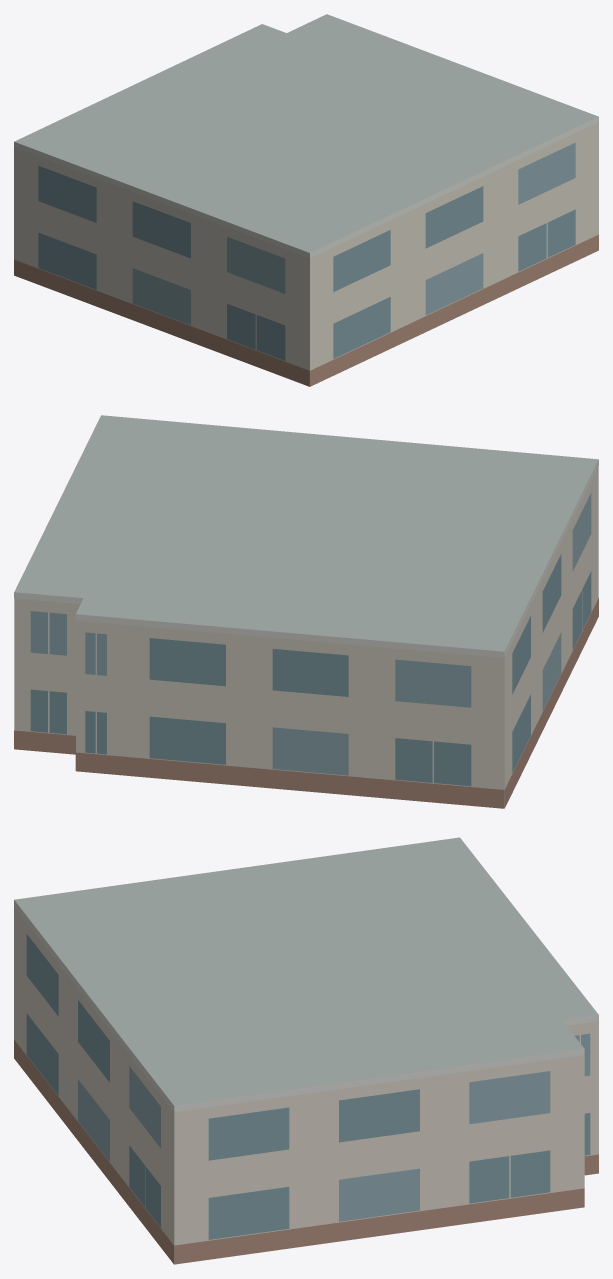
Rendered from survey-upis-32760180.glb.
3 views of the same model, one above another, from view 1: azimuth 30°, elevation 25°; view 2: azimuth 150°, elevation 25°; view 3: azimuth 270°, elevation 25° (orthographic). The views are drawn at different scales.
Visible parts, largest first — view 1: survey-upis-32760180.tmp; view 2: survey-upis-32760180.tmp; view 3: survey-upis-32760180.tmp.
Boxes of the visible parts, <box> form: survey-upis-32760180.tmp: <box>14,14,598,386</box>; survey-upis-32760180.tmp: <box>14,415,598,808</box>; survey-upis-32760180.tmp: <box>14,837,598,1264</box>.
Size of the model in its own units: 22.15 by 6.1 by 20.39.
